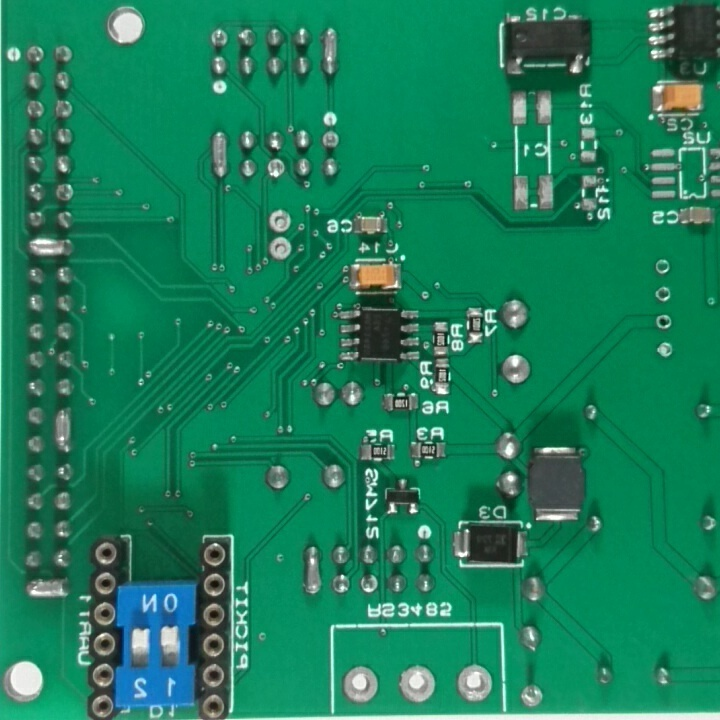F: (397, 663, 439, 706), (454, 662, 495, 705), (340, 663, 381, 703), (265, 208, 294, 235), (518, 684, 545, 710), (267, 237, 293, 263), (54, 180, 77, 209), (359, 574, 380, 600), (25, 98, 45, 123), (23, 44, 45, 65), (654, 312, 676, 333), (654, 283, 674, 306), (266, 157, 286, 180), (651, 256, 674, 275), (322, 130, 340, 154), (210, 29, 231, 49), (657, 341, 676, 360)
P: (205, 127, 231, 183), (299, 542, 324, 598), (22, 576, 71, 602), (320, 26, 342, 83), (25, 237, 75, 261), (51, 408, 75, 458)
